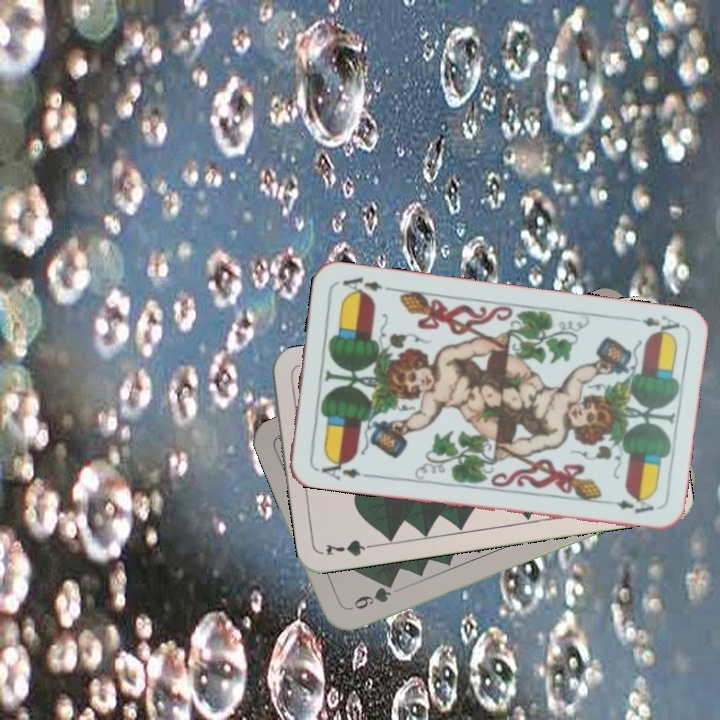EA: (312, 454, 371, 483), (624, 311, 683, 340)
G7: (321, 535, 380, 559)
G9: (345, 578, 397, 613)
